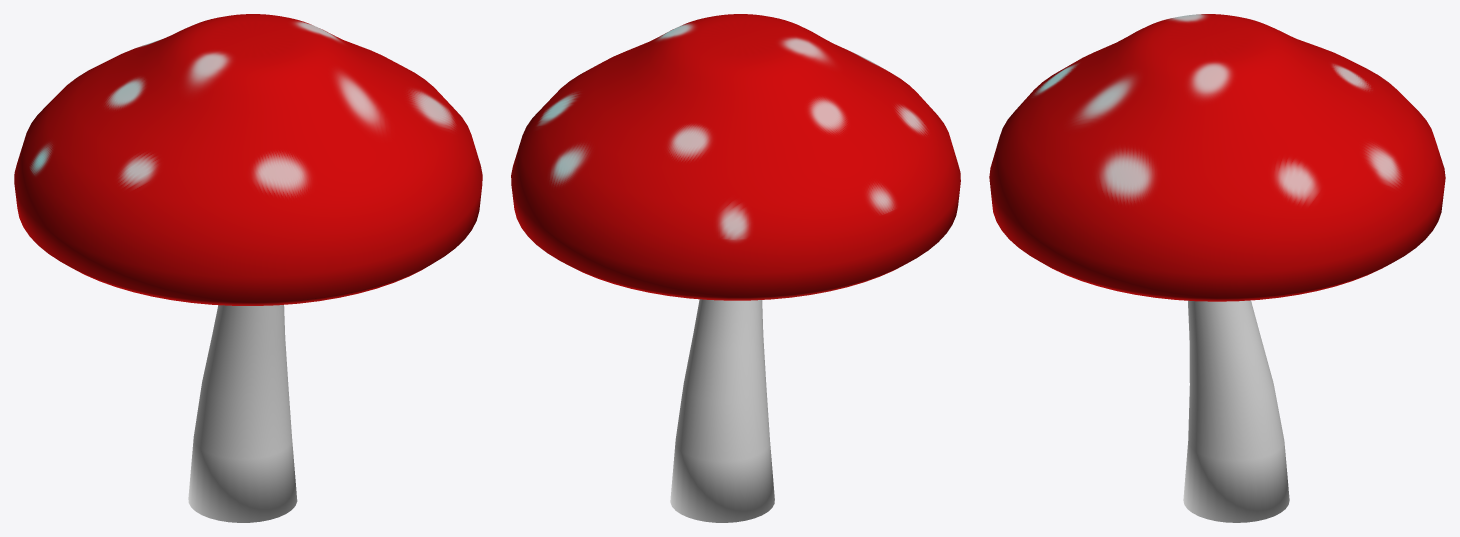
Rendered from mushroom.fbx.
The picture shows the model from 3 angles, left to right: view 1: azimuth 30°, elevation 25°; view 2: azimuth 150°, elevation 25°; view 3: azimuth 270°, elevation 25°; orthographic projection. The views are drawn at different scales.
Parts seen in each view (by area): view 1: Cylinder.002, Cylinder.001; view 2: Cylinder.002, Cylinder.001; view 3: Cylinder.002, Cylinder.001.
Part boxes in pixels (x1,y1,x2,y2): Cylinder.002: (14,14,482,305); Cylinder.001: (188,305,297,522); Cylinder.002: (511,14,960,300); Cylinder.001: (670,299,774,522); Cylinder.002: (989,14,1445,301); Cylinder.001: (1183,300,1289,522).
Size of the model in its own units: 196 by 218 by 195.
